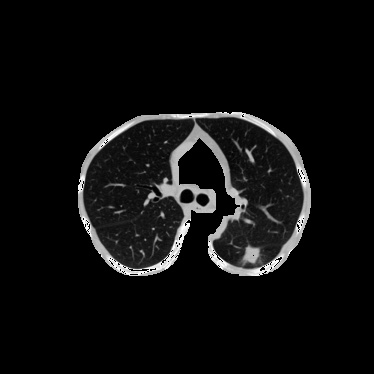PN: (241, 244, 261, 264)
